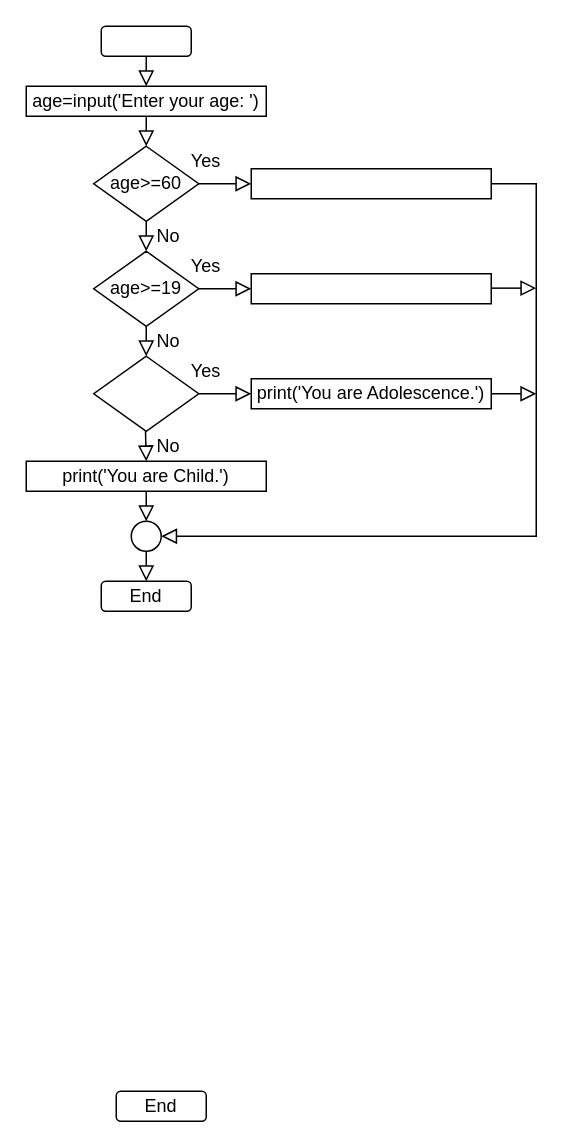
The diagram is 578 pixels wide and 1148 high, and some of its shapes have lost their labels. Each missing label, with the box of its shape:
age>=13: (92, 355, 199, 431)
print('You are Adult.'): (250, 272, 491, 304)
print('You are Senior.'): (250, 167, 491, 199)
Start: (100, 25, 191, 56)
